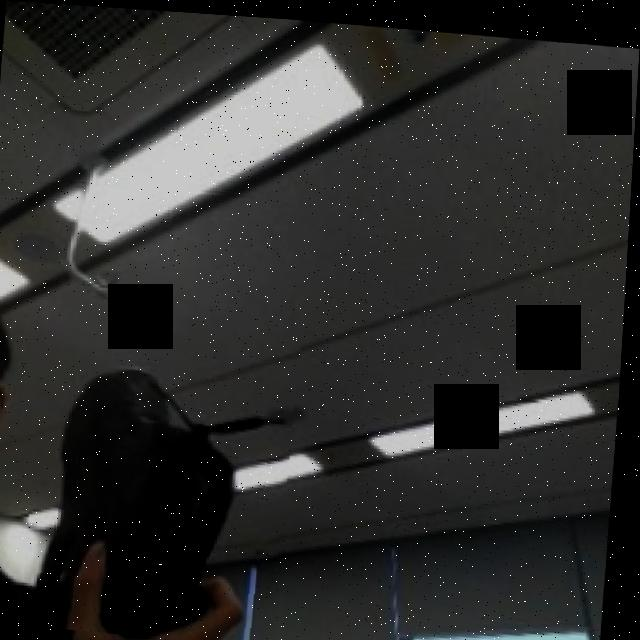shoe: (27, 317, 306, 640)
